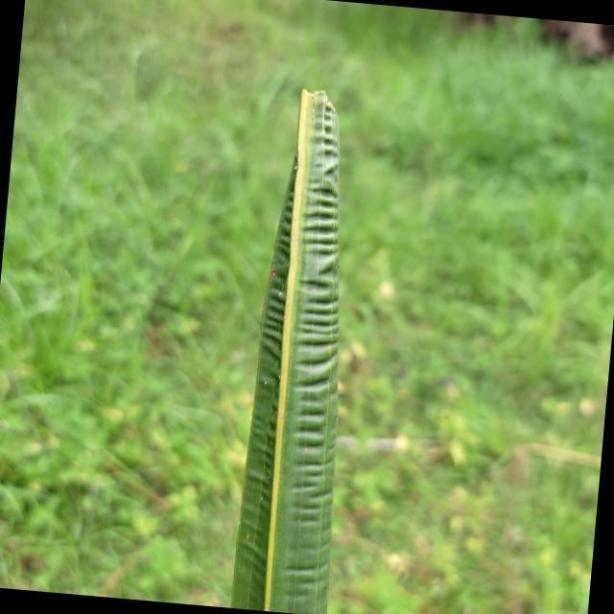Boron: (226, 67, 342, 614)
